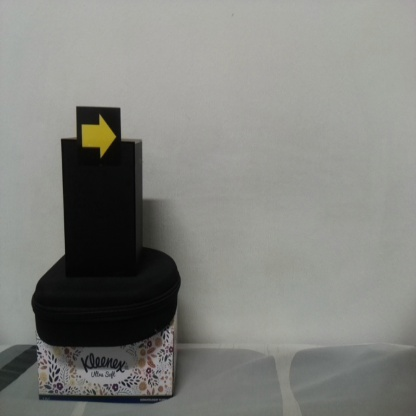id_3: (76, 107, 122, 171)
